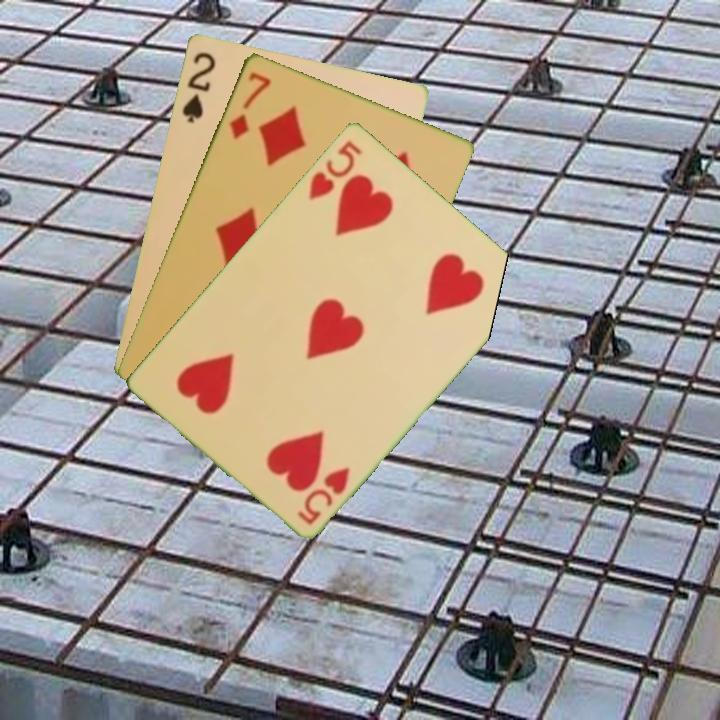2s: (178, 48, 218, 126)
5h: (305, 136, 365, 202), (294, 463, 353, 527)
7d: (226, 68, 274, 142)
